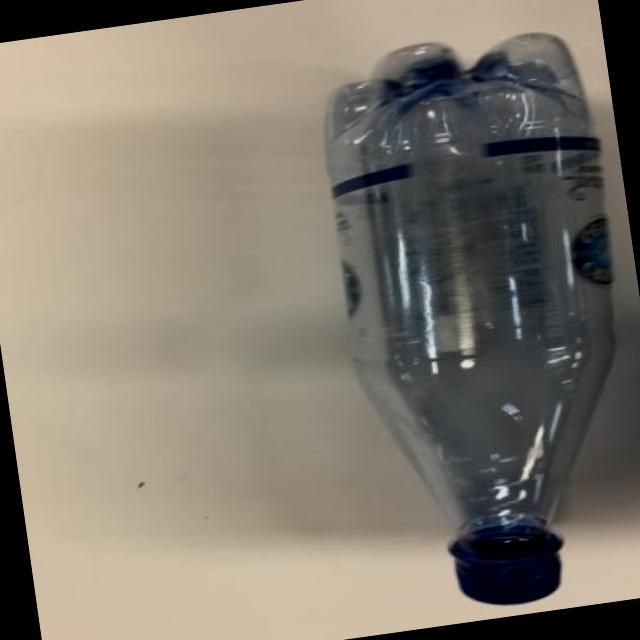bottle: (326, 34, 613, 604)
